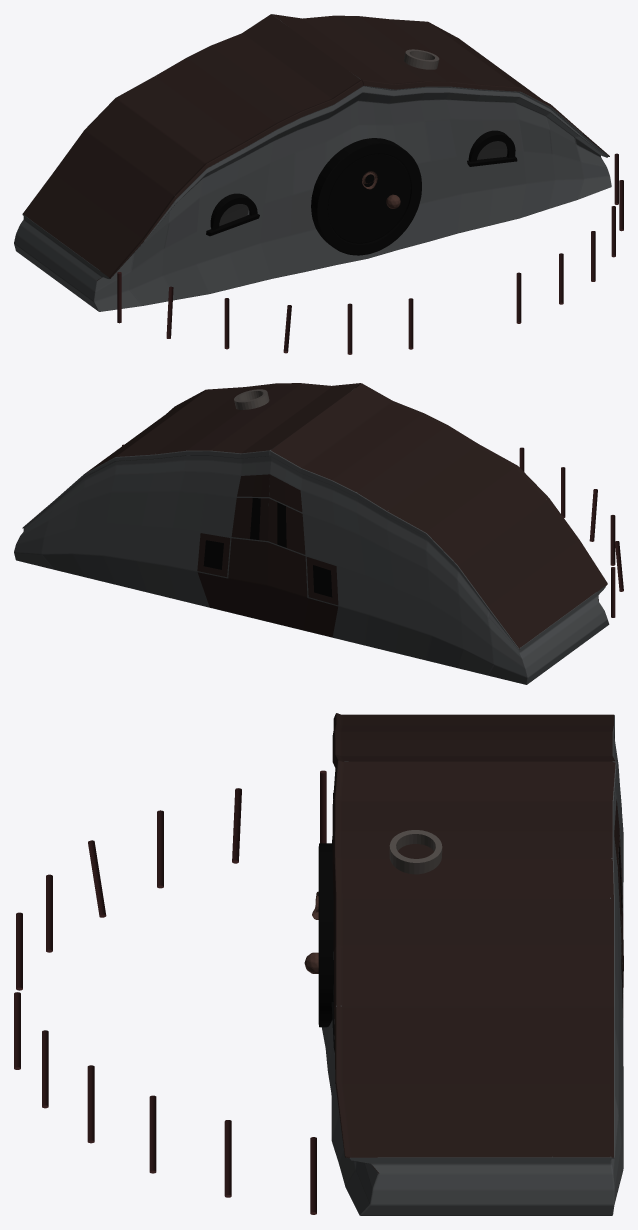
3 views of the same model, one above another, from view 1: azimuth 30°, elevation 25°; view 2: azimuth 150°, elevation 25°; view 3: azimuth 270°, elevation 25° (orthographic). The views are drawn at different scales.
Parts seen in each view (by area): view 1: Cube, Cylinder, Cylinder.003, Cube.001, Cylinder.001, Cylinder.002; view 2: Cube, Cylinder.003, Cylinder.002; view 3: Cube, Cylinder.003, Cylinder, Cylinder.002.
Boxes of the visible parts, left/top/right/bottom form: Cube: left=14, top=14, right=611, bottom=311; Cylinder: left=311, top=138, right=421, bottom=255; Cylinder.003: left=117, top=153, right=623, bottom=354; Cube.001: left=206, top=141, right=517, bottom=236; Cylinder.001: left=210, top=130, right=515, bottom=230; Cylinder.002: left=403, top=49, right=439, bottom=69; Cube: left=14, top=383, right=609, bottom=684; Cylinder.003: left=122, top=444, right=623, bottom=617; Cylinder.002: left=234, top=389, right=269, bottom=409; Cube: left=322, top=713, right=623, bottom=1215; Cylinder.003: left=14, top=770, right=326, bottom=1214; Cylinder: left=318, top=843, right=333, bottom=1027; Cylinder.002: left=389, top=830, right=442, bottom=874.
Size of the model in its own units: 621 by 205 by 418.
